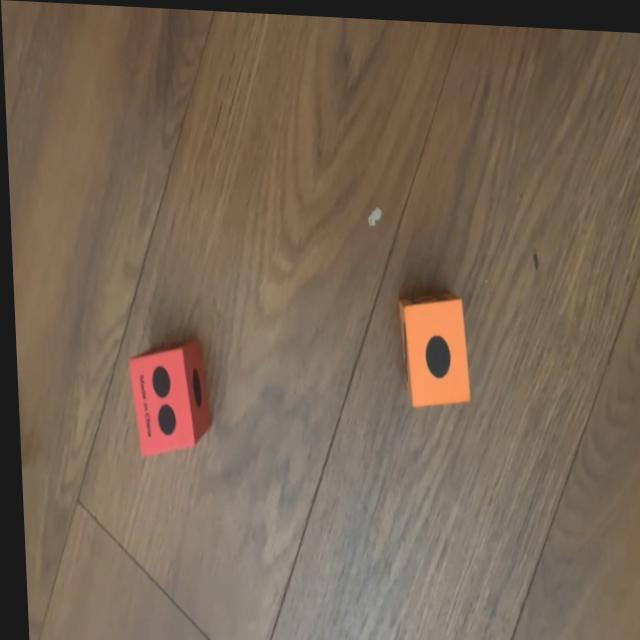cube: (125, 337, 205, 456)
